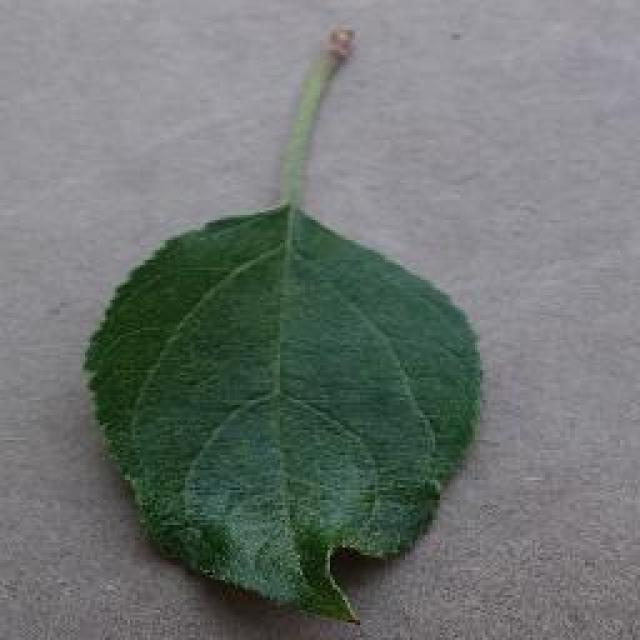apple healthy: (80, 20, 485, 625)
